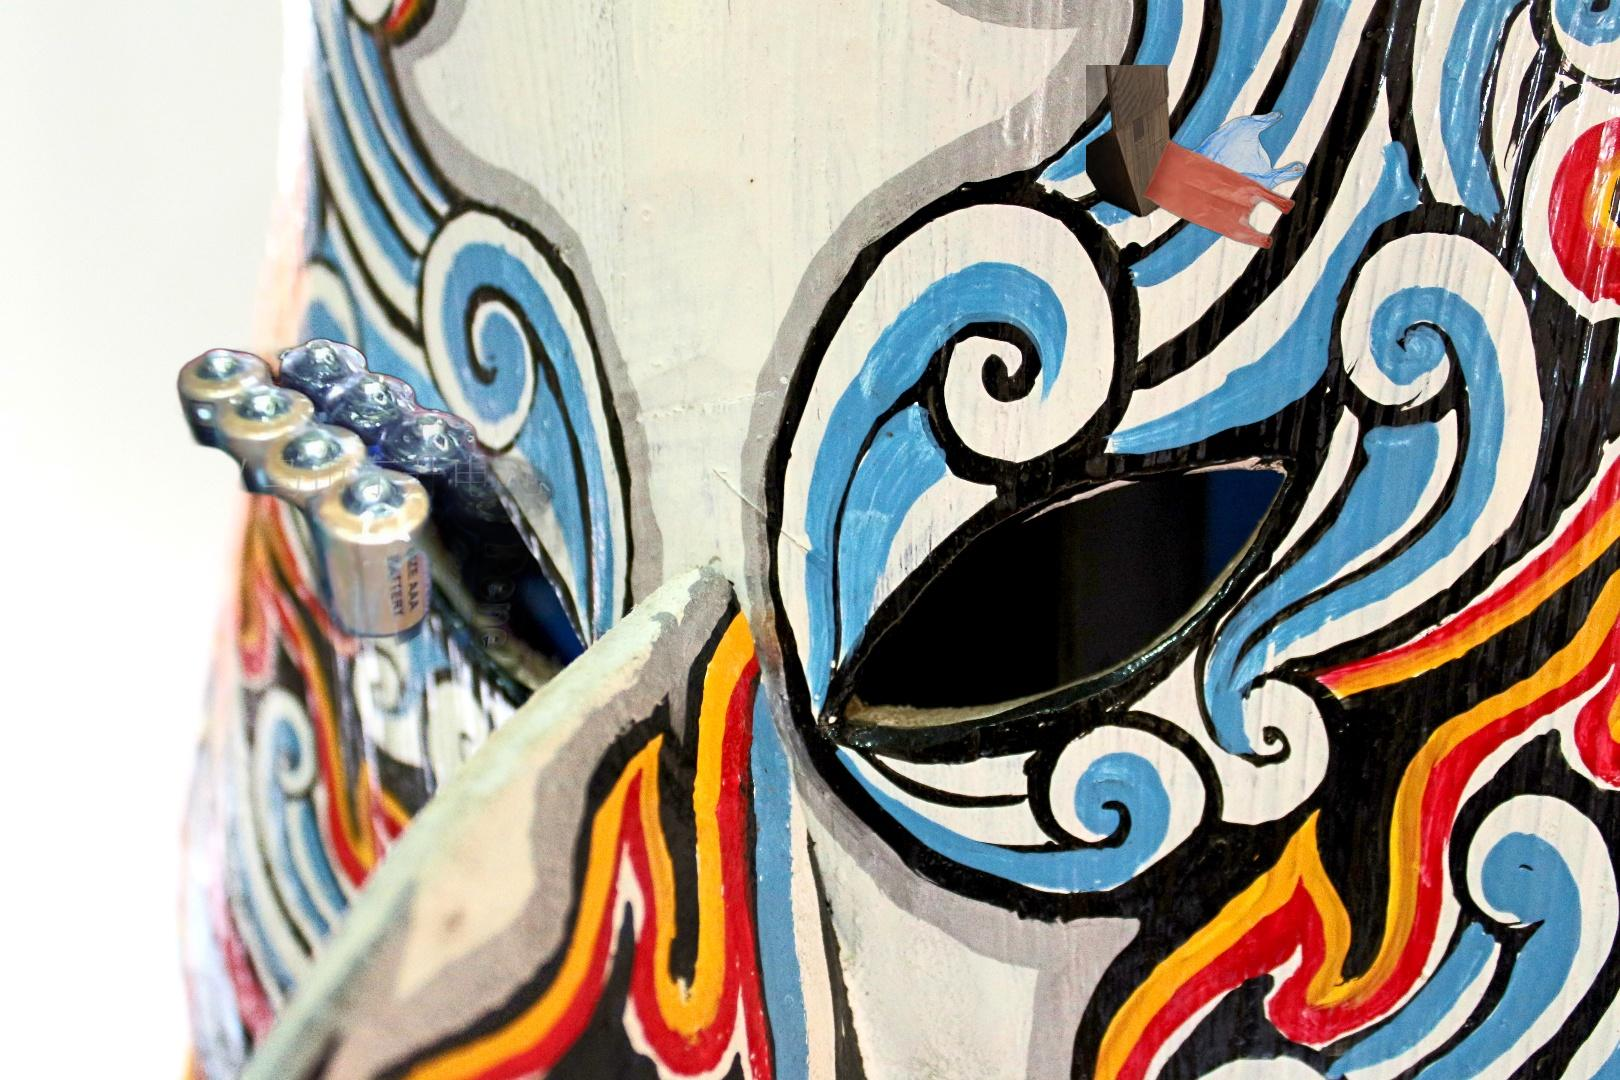battery: (174, 333, 673, 658)
plastic-bag: (1086, 65, 1309, 253)
